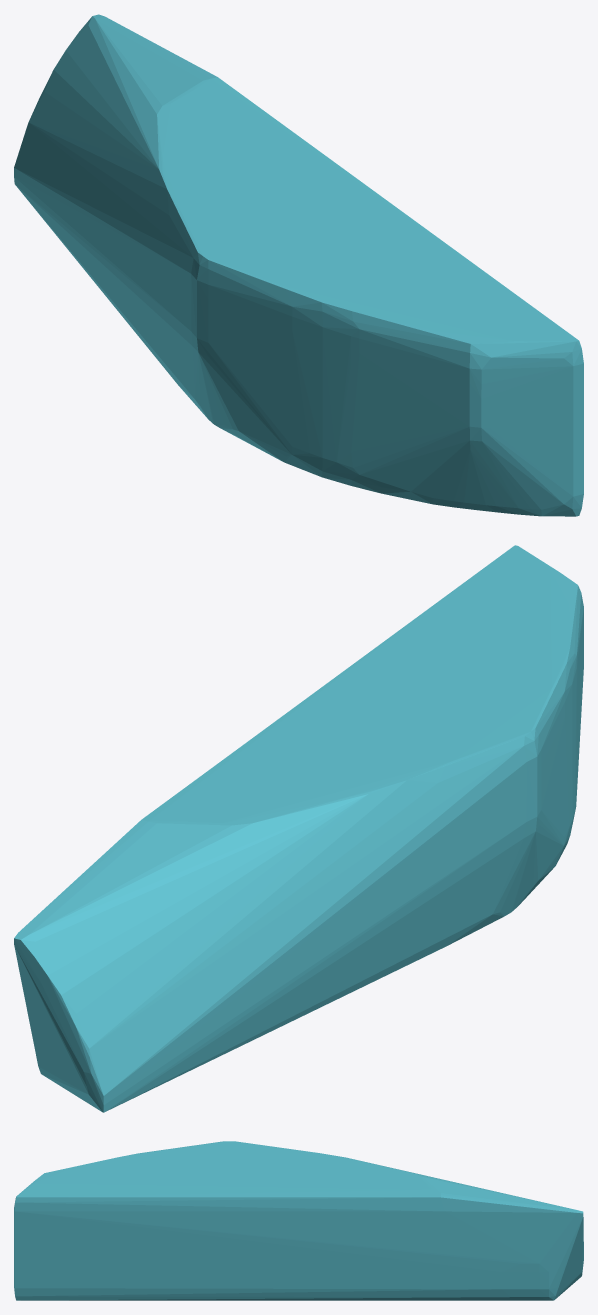
Rendered from right-hip-yaw-0_part_2.obj.
3 renders of one model, top to bottom at view 1: azimuth 30°, elevation 25°; view 2: azimuth 150°, elevation 25°; view 3: azimuth 270°, elevation 25°, orthographic. The views are drawn at different scales.
Size of the model in its own units: 0.0274 by 0.0221 by 0.1098.
